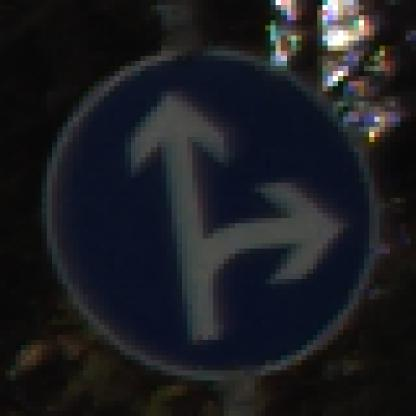Straight or Right: (38, 42, 381, 382)
